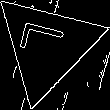L_E: (19, 24, 75, 67)
